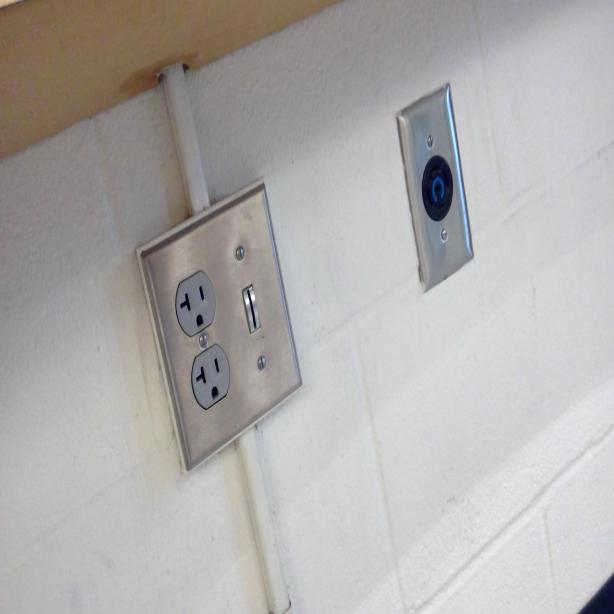typeb: (175, 274, 213, 334), (195, 351, 230, 402)
